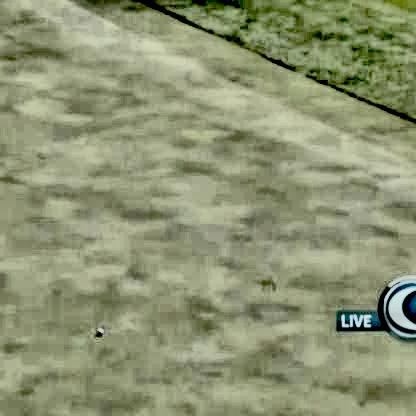golfball: (95, 323, 102, 333)
